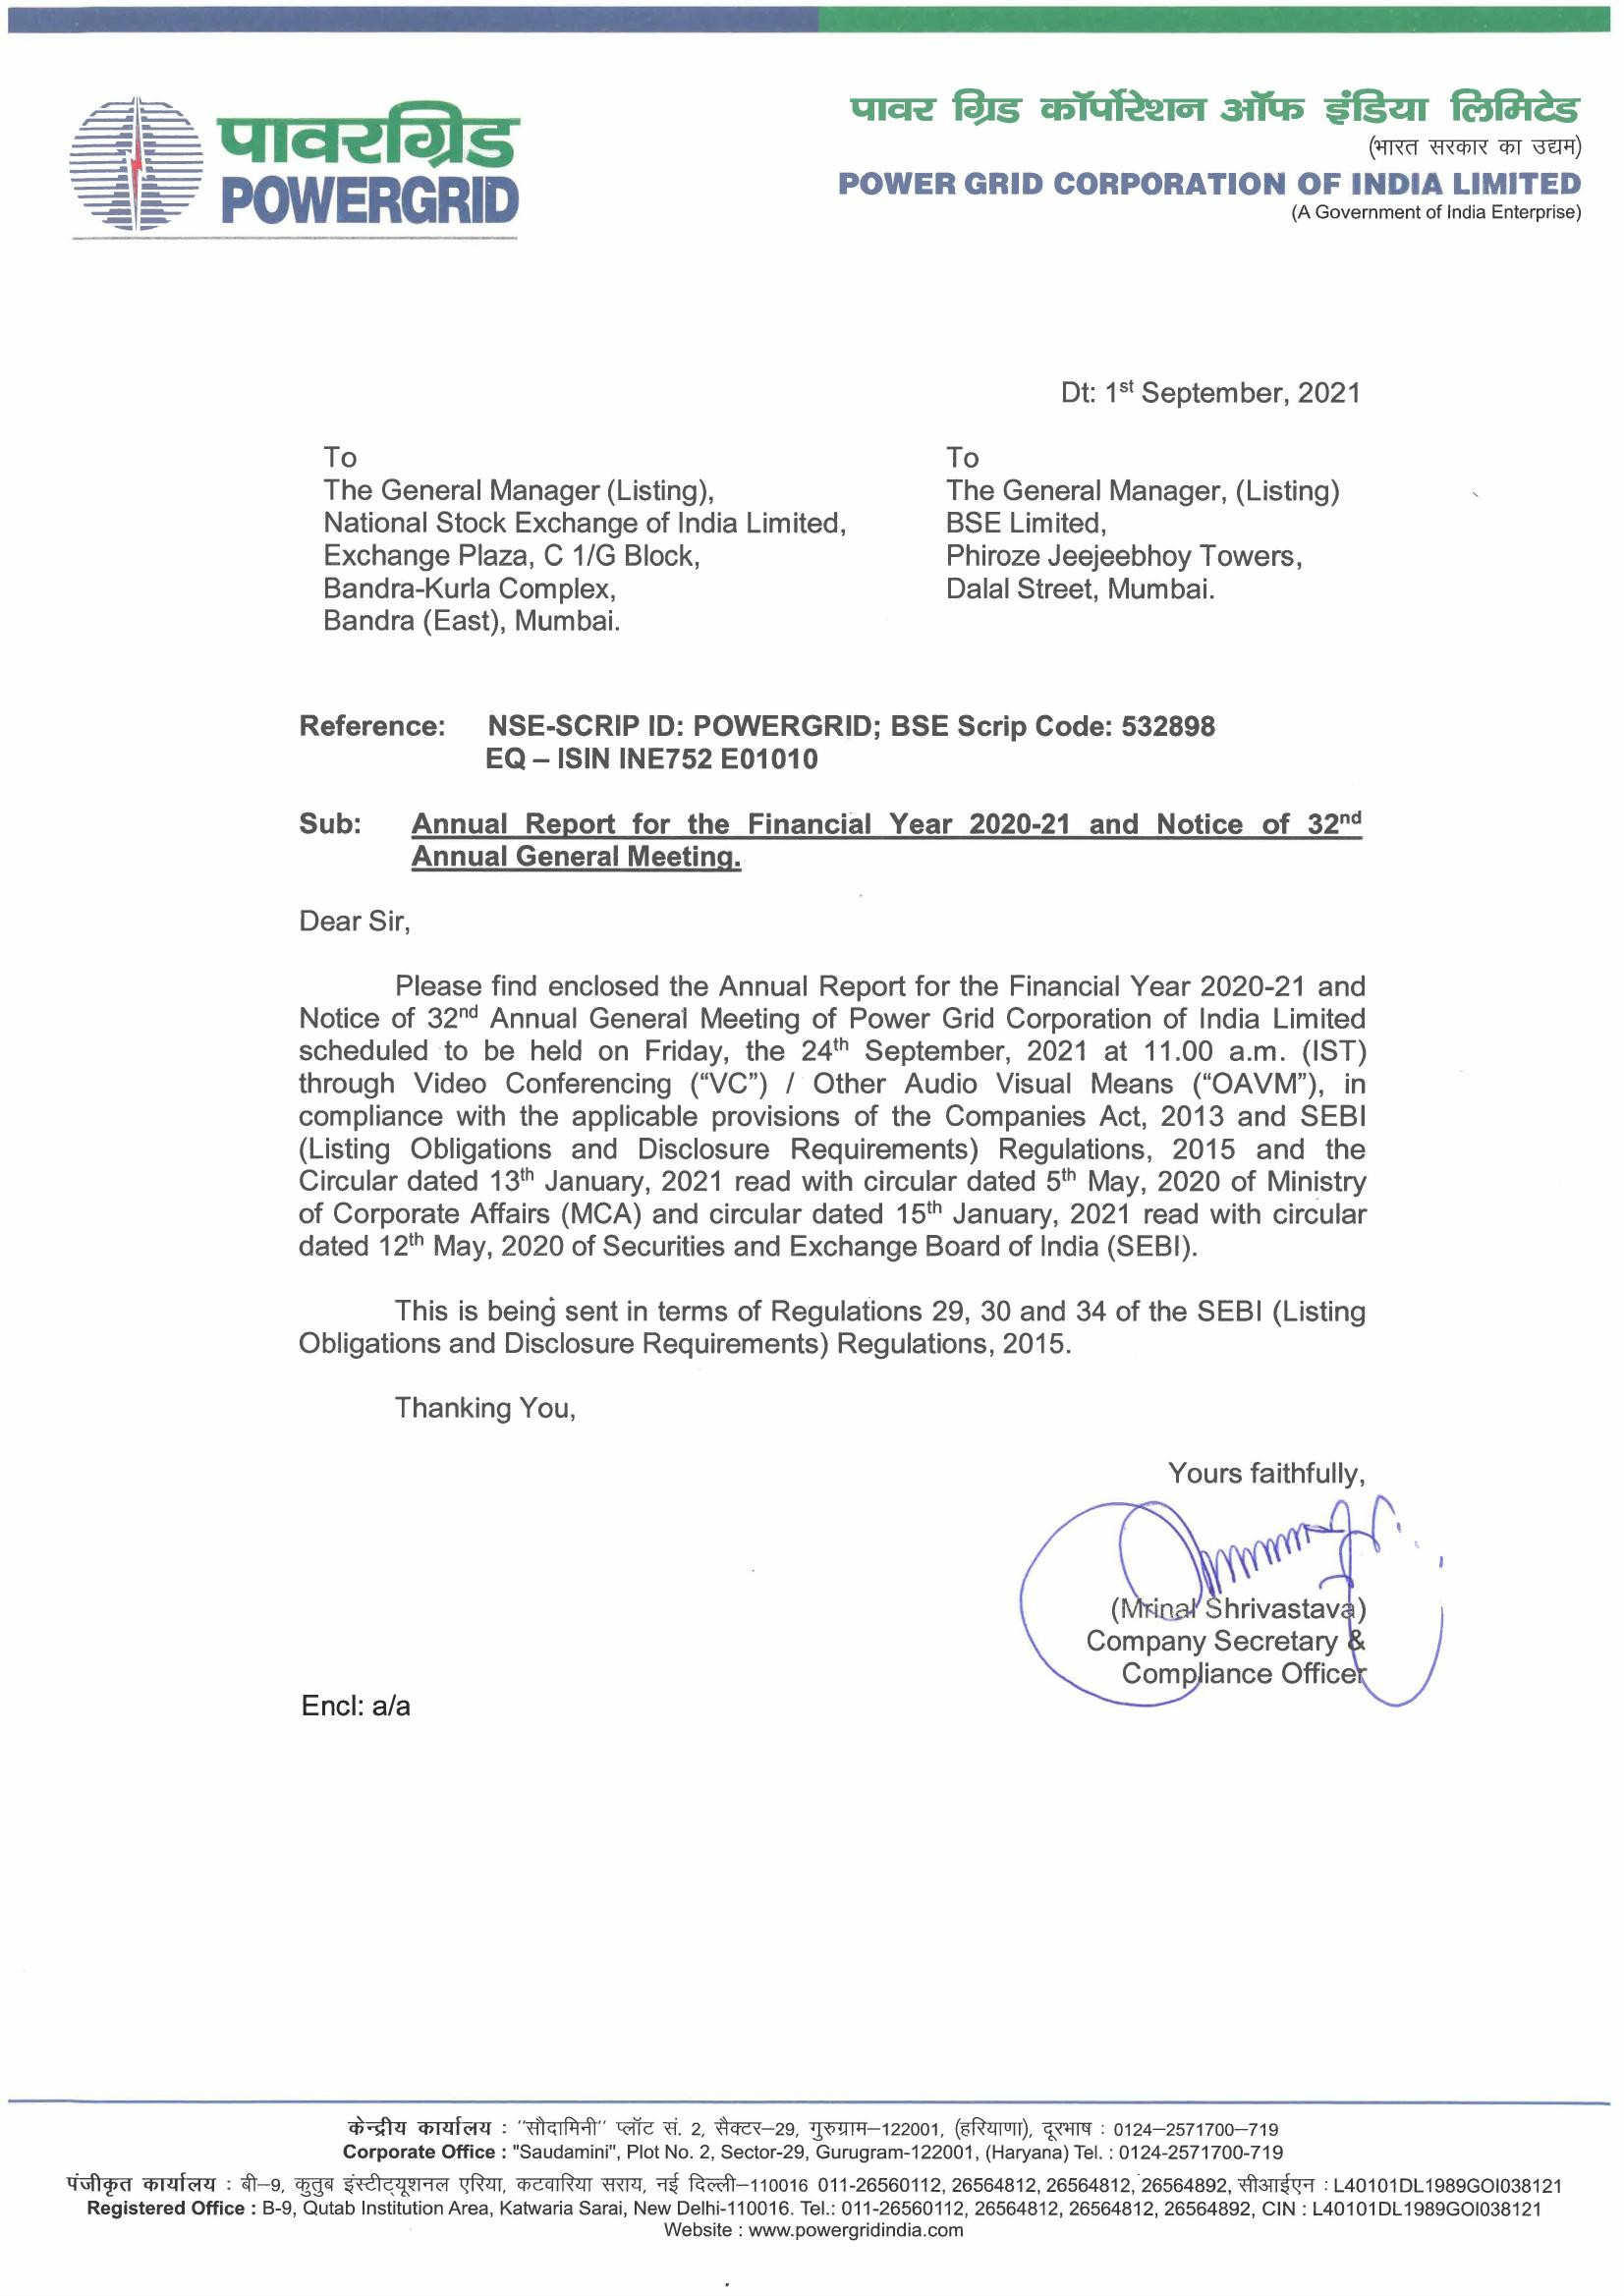Footer: (0, 2094, 1624, 2291)
Header: (2, 9, 1624, 264)
